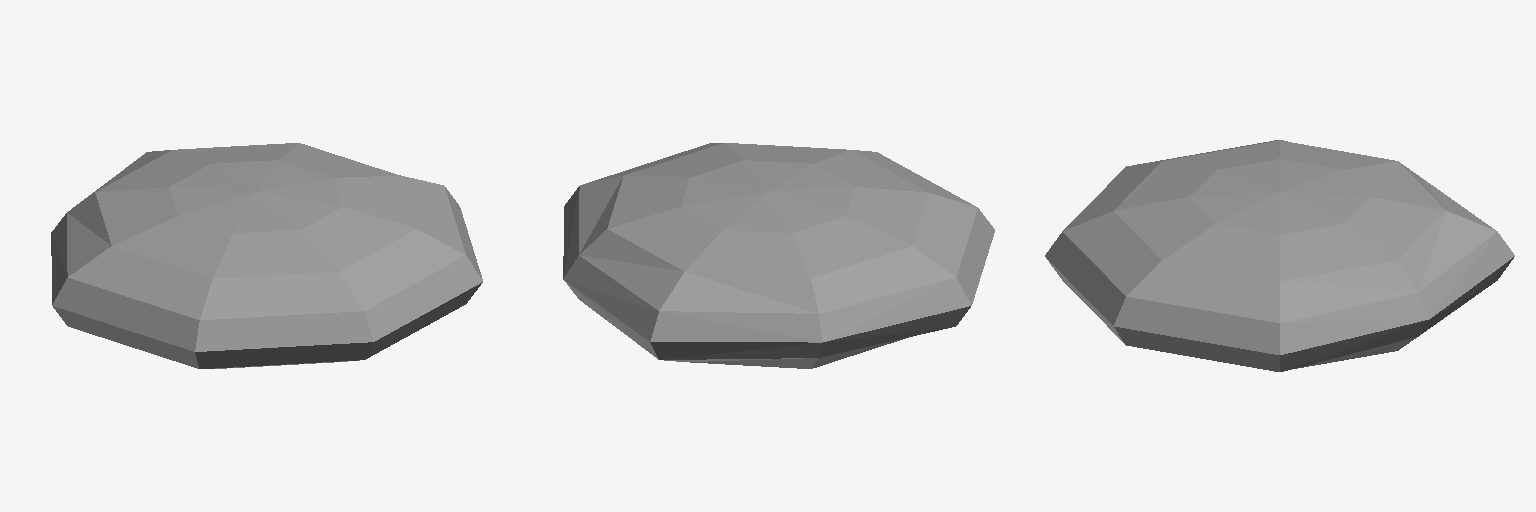
File: superlife.obj
The picture shows the model from 3 angles: view 1: azimuth 30°, elevation 25°; view 2: azimuth 150°, elevation 25°; view 3: azimuth 270°, elevation 25°; orthographic projection.
Size of the model in its own units: 1 by 0.3 by 1.